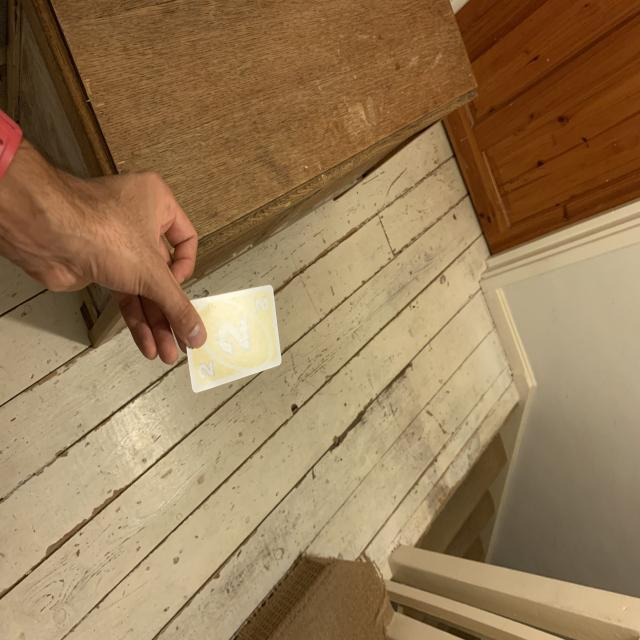lyellow-2: (249, 292, 272, 318)
